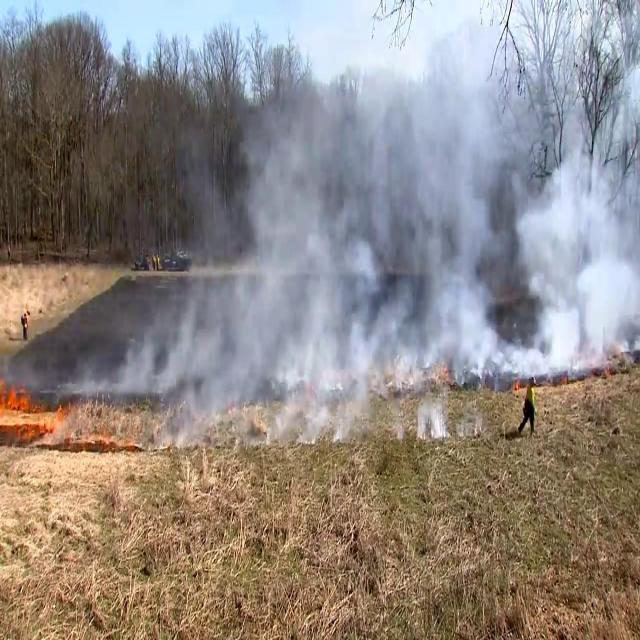Fire: (21, 402, 71, 443), (1, 385, 40, 413), (511, 377, 522, 394)
